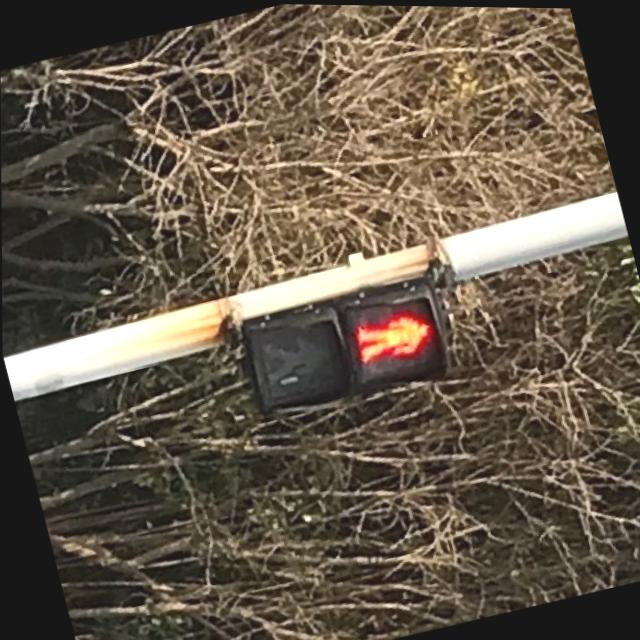red_light: (349, 301, 441, 366)
